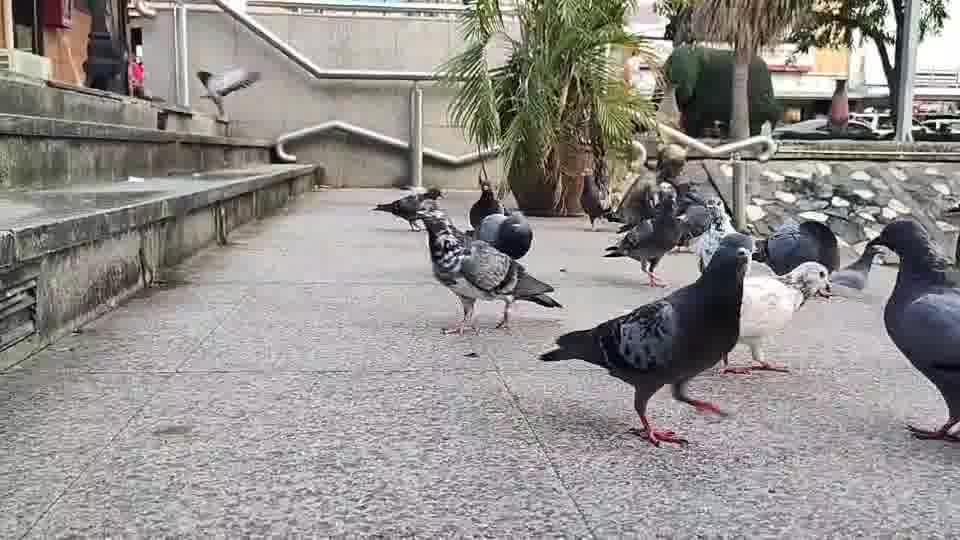Pigeon: (536, 232, 755, 448), (862, 216, 959, 443), (412, 202, 563, 336), (716, 259, 832, 375), (602, 191, 713, 288), (367, 183, 447, 232), (195, 64, 260, 124), (827, 237, 889, 295), (578, 169, 615, 228), (468, 174, 505, 230)
